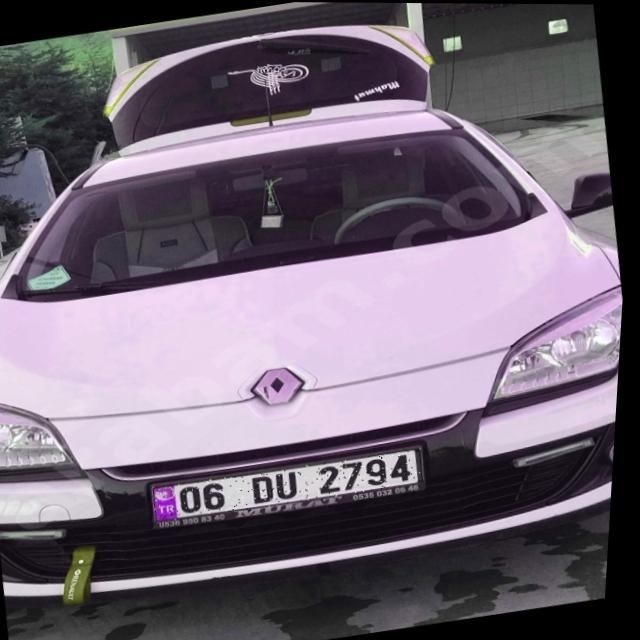license_plate: (158, 446, 429, 525)
